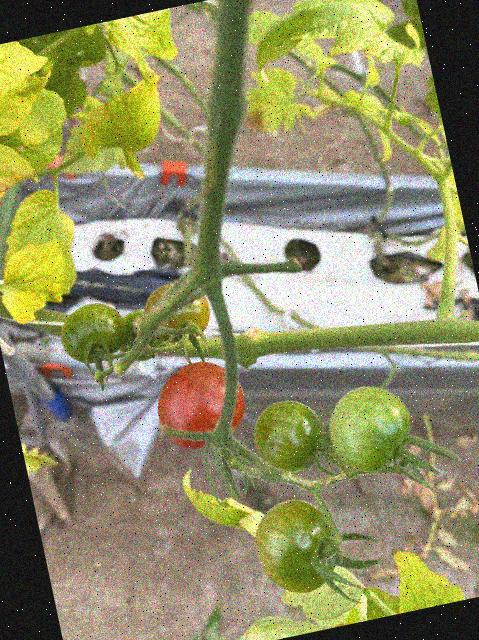l_fully_ripened: (148, 353, 254, 456)
l_green: (248, 491, 344, 601), (321, 377, 420, 479), (248, 394, 331, 480), (55, 297, 133, 368), (113, 304, 169, 364)
l_half_ripened: (139, 276, 216, 349)
